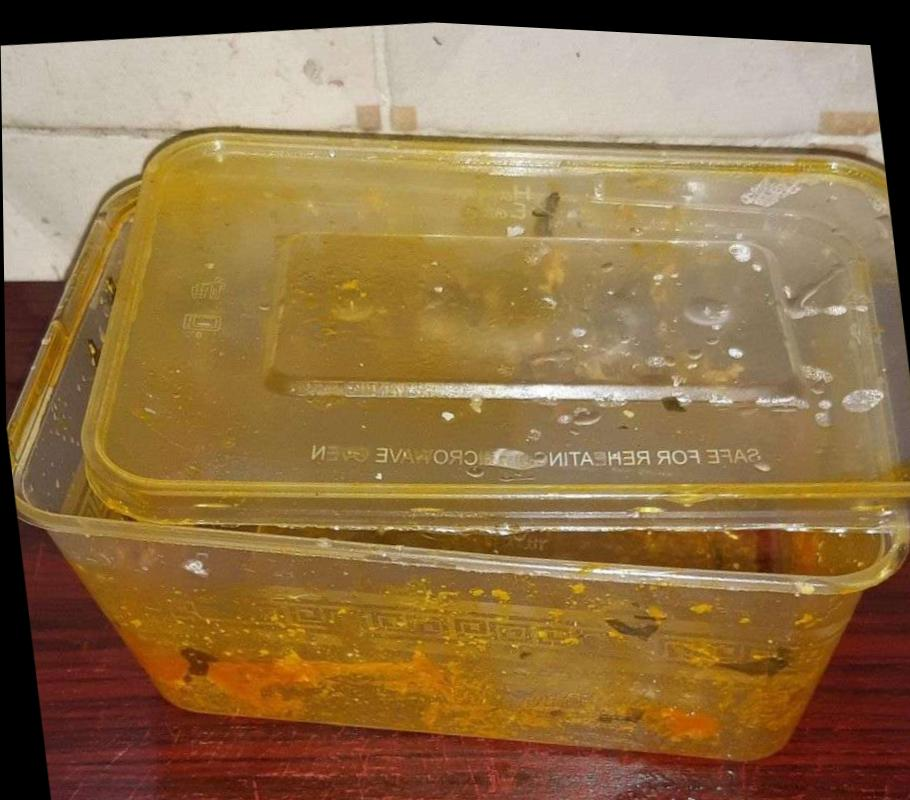plastic: (1, 49, 910, 800)
